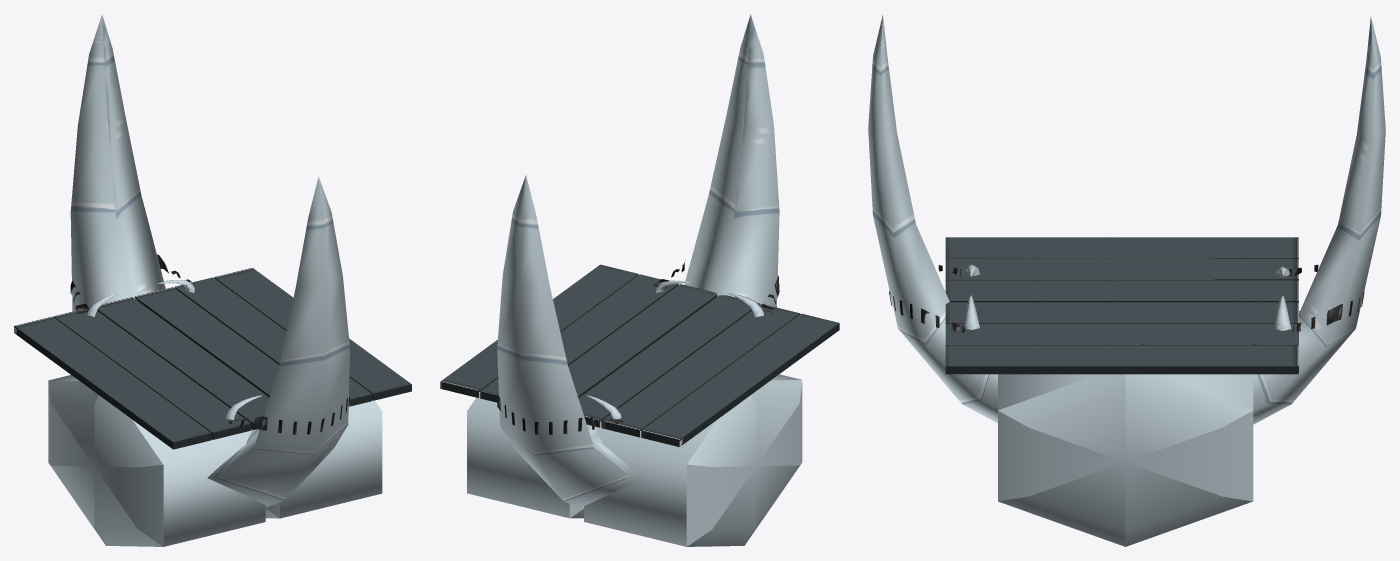
The model's file is Bridge new 2.fbx.
3 renders of one model, left to right at view 1: azimuth 30°, elevation 25°; view 2: azimuth 150°, elevation 25°; view 3: azimuth 270°, elevation 25°, orthographic. The views are drawn at different scales.
Parts seen in each view (by area): view 1: pCylinder2, bone2, bone1, pCube1, pCube2, pCylinder1, pCube3, pCube4, pCube6, pCube5; view 2: pCylinder2, bone1, bone2, pCube1, pCube2, pCylinder1, pCube3, pCube4, pCube6, pCube5; view 3: pCylinder1, bone1, bone2, pCube6, pCube3, pCube2, pCube1, pCube5, pCube4.
Boxes of the visible parts, <box> form: pCylinder2: <box>48,375,265,546</box>; bone2: <box>207,176,350,506</box>; bone1: <box>70,14,194,316</box>; pCube1: <box>14,316,211,449</box>; pCube2: <box>53,307,251,439</box>; pCylinder1: <box>265,400,382,518</box>; pCube3: <box>97,297,269,430</box>; pCube4: <box>134,287,279,397</box>; pCube6: <box>214,267,411,400</box>; pCube5: <box>174,277,372,406</box>; pCylinder2: <box>584,374,802,546</box>; bone1: <box>497,175,643,508</box>; bone2: <box>653,14,779,317</box>; pCube1: <box>641,313,839,447</box>; pCube2: <box>601,304,799,437</box>; pCylinder1: <box>467,397,583,518</box>; pCube3: <box>578,295,759,427</box>; pCube4: <box>568,284,717,398</box>; pCube6: <box>440,264,638,397</box>; pCube5: <box>480,274,678,402</box>; pCylinder1: <box>998,374,1253,546</box>; bone1: <box>1253,17,1385,424</box>; bone2: <box>868,15,997,423</box>; pCube6: <box>945,345,1298,374</box>; pCube3: <box>945,280,1298,302</box>; pCube2: <box>945,258,1298,280</box>; pCube1: <box>945,237,1298,258</box>; pCube5: <box>945,324,1298,345</box>; pCube4: <box>945,302,1298,323</box>.
Bounding box in the file's own units: 5.99 × 9.96 × 9.93.
